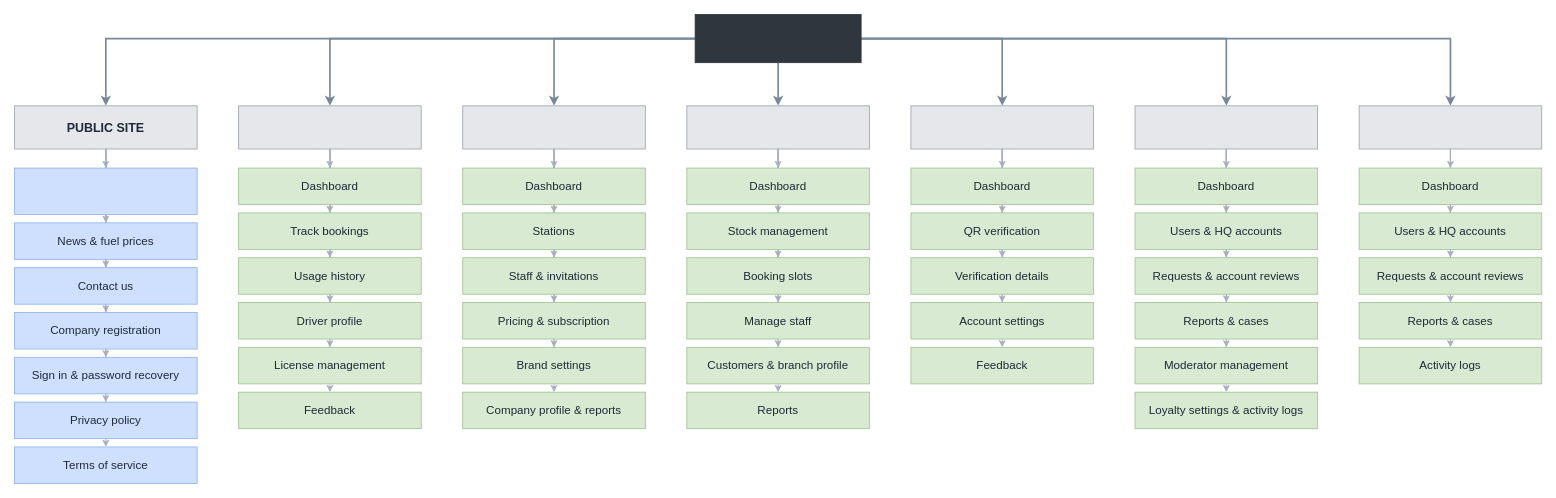
The diagram is 1556 pixels wide and 498 high, and some of its shapes have lost their labels. The shapes that lost their labels are listed below. From the top down, each one's centre as x and y in pixels, then its label:
[777,38]: MAP & PUMP
[329,127]: CUSTOMER
[553,127]: COMPANY / HQ
[777,127]: BRANCH MANAGER
[1002,127]: STAFF
[1226,127]: ADMIN
[1450,127]: MODERATOR
[105,191]: Homepage How it works · Pricing · Drivers · FAQ
